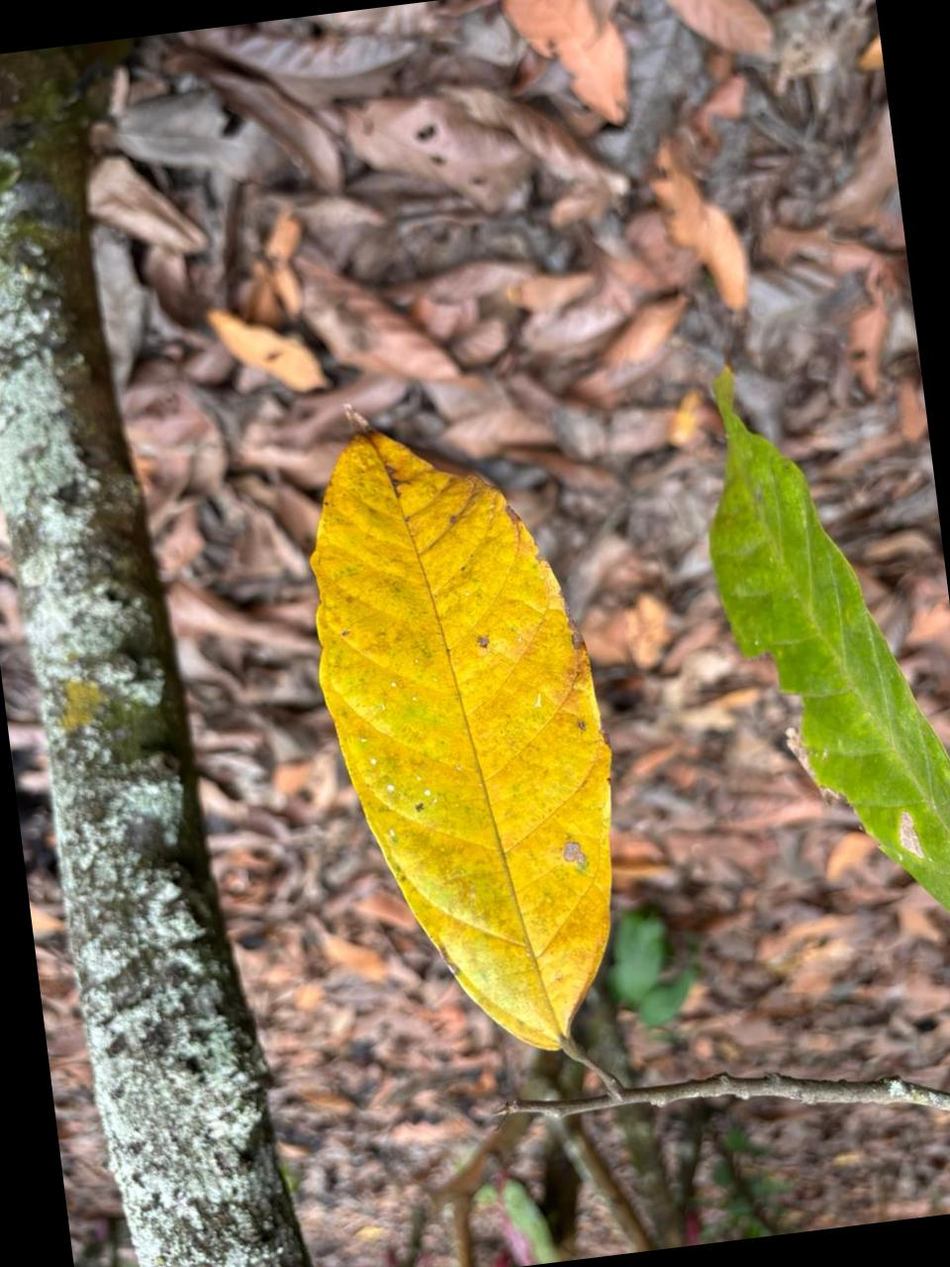Fosforo: (312, 429, 611, 1049)
